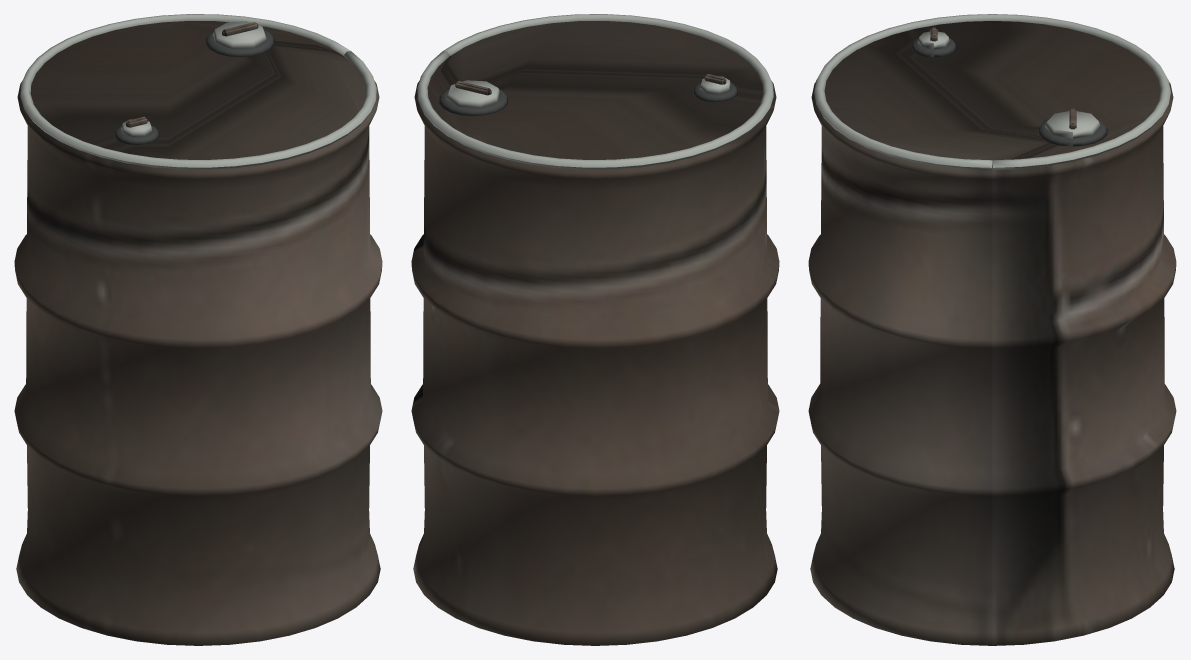
File: quay-drum.glb
3 views of the same model, side by side, from view 1: azimuth 30°, elevation 25°; view 2: azimuth 150°, elevation 25°; view 3: azimuth 270°, elevation 25° (orthographic).
Visible parts, largest first — view 1: Frame; view 2: Frame; view 3: Frame.
Boxes of the visible parts, x1,y1,x2,y2 form: Frame: [14, 14, 382, 645]; Frame: [411, 14, 779, 645]; Frame: [808, 14, 1176, 645].
Bounding box in the file's own units: 0.604 × 0.904 × 0.604.
Materials: 3 (1 with a texture image).
